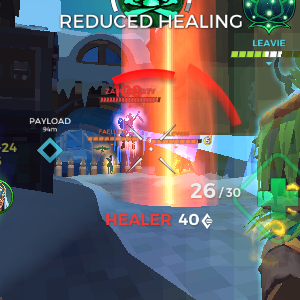model: (119, 106, 141, 152), (104, 153, 116, 176)
